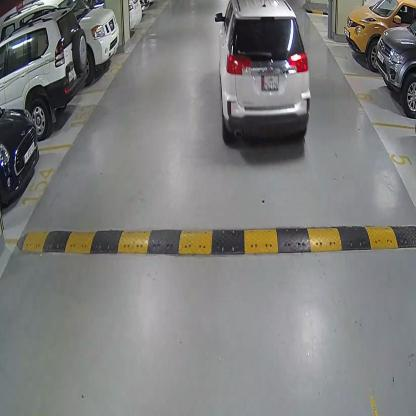np: (262, 78, 281, 92)
